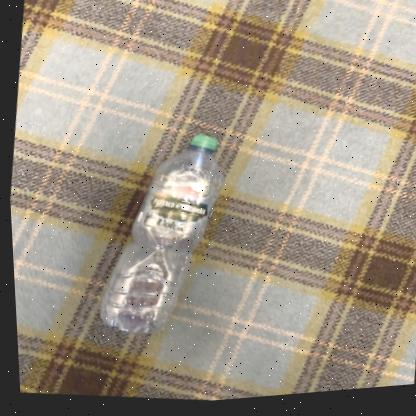Plastic: (96, 137, 221, 335)
